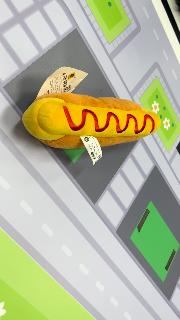hotdog: (22, 92, 162, 150)
